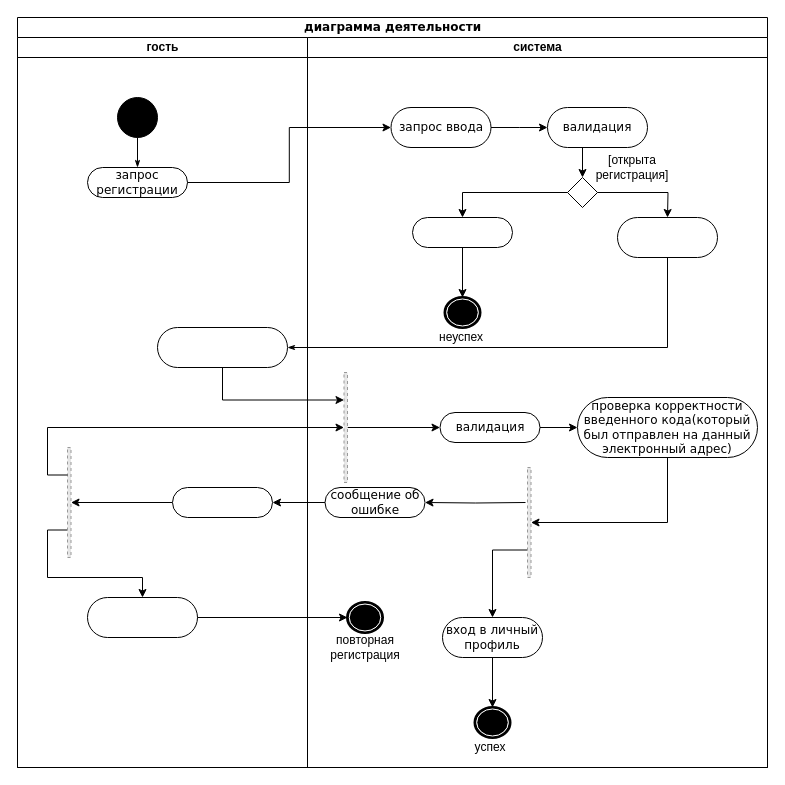
This 785x785 diagram has some shape labels left out. Grey dashed boxes stand in for pictures. Here are the shapes that lost their labels. From the top down, the box of each, then its label:
(412, 216, 512, 248): сообщить об ошибке
(616, 216, 718, 258): сообщение о успешной регистрации
(156, 326, 288, 368): запрос ввода отправленного кода для регистрации
(172, 486, 272, 518): повторный ввод
(86, 596, 198, 638): количество неверного кода >2
